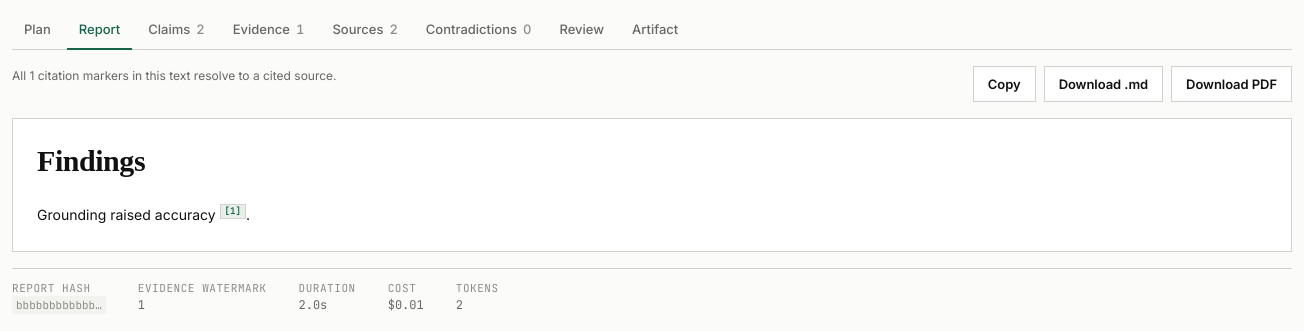
Scenario: Plan gate › closes the gate controls once the plan has been decided
The width and height of the screenshot is (1304, 331).
Click the tab "Plan" at (37, 31), box [12,12,63,50]
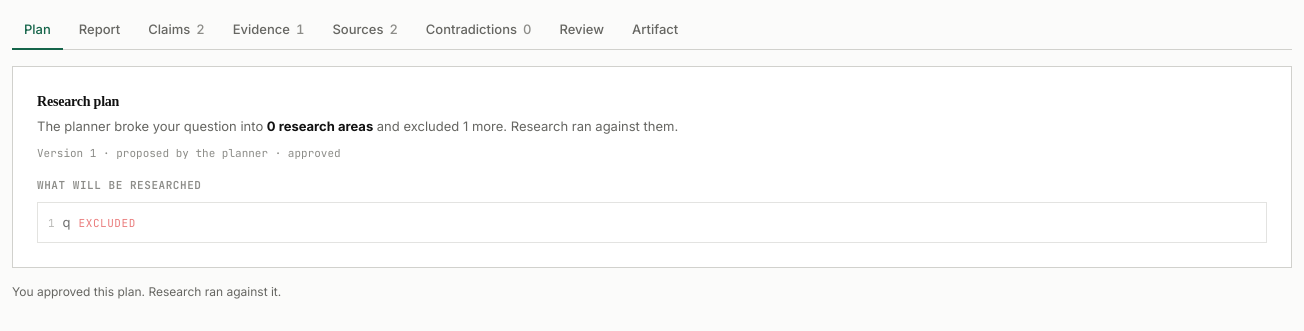
Expected: the text "You approved this plan. Research ran against it." is shown, [12,284,281,298]
